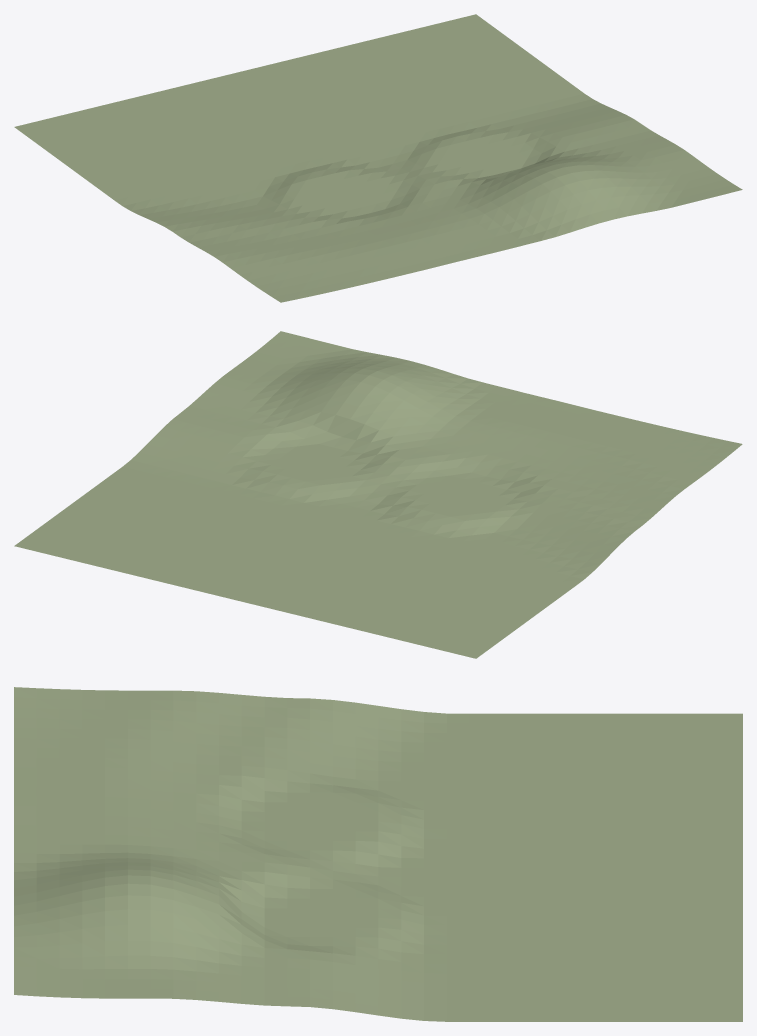
File: coast-0-0.glb
3 views of the same model, one above another, from view 1: azimuth 30°, elevation 25°; view 2: azimuth 150°, elevation 25°; view 3: azimuth 270°, elevation 25° (orthographic). The views are drawn at different scales.
Visible parts, largest first — view 1: coast-0-0; view 2: coast-0-0; view 3: coast-0-0.
Boxes of the visible parts, <box> form: coast-0-0: <box>14,14,742,302</box>; coast-0-0: <box>14,331,742,658</box>; coast-0-0: <box>14,687,742,1021</box>.
Bounding box in the file's own units: 256 × 19.95 × 256.
